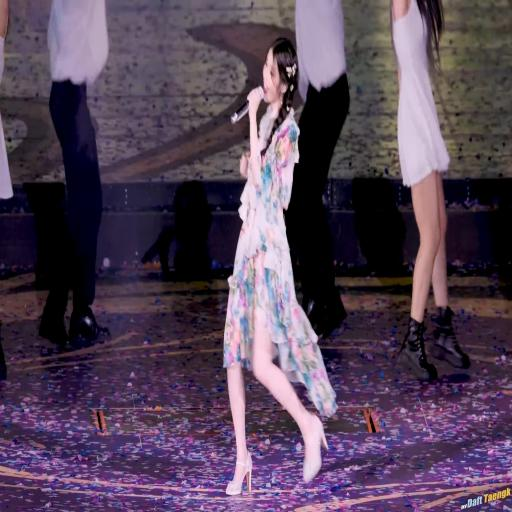IU: (262, 38, 298, 104)
